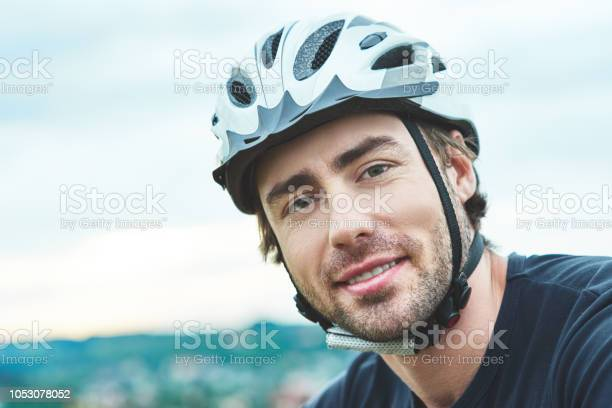helmet: (210, 13, 480, 349)
